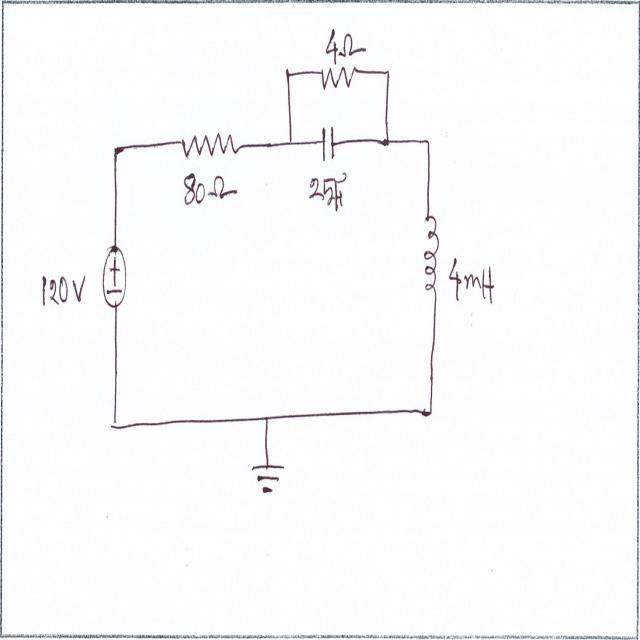capacitor: (319, 113, 336, 168)
ground: (248, 458, 288, 502)
inductor: (420, 208, 442, 305)
resistor: (179, 127, 244, 166), (316, 59, 364, 99)
voltage_source: (100, 236, 132, 316)
